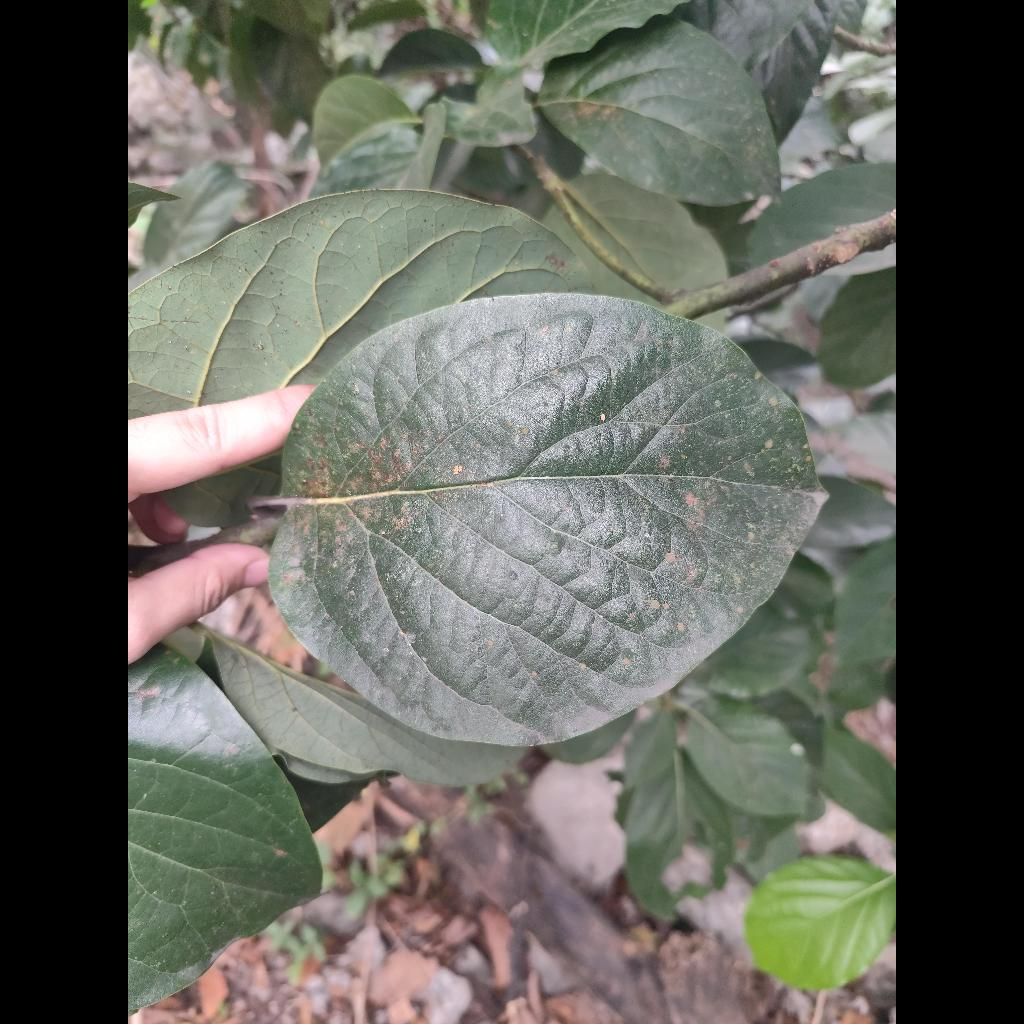Anthracnose: (273, 296, 818, 745)
